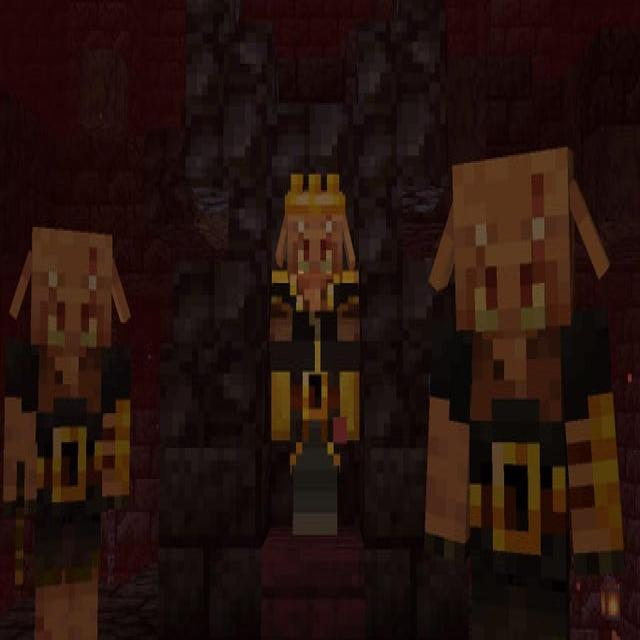Piglin: (420, 142, 626, 636), (1, 226, 133, 639), (269, 168, 362, 538)
